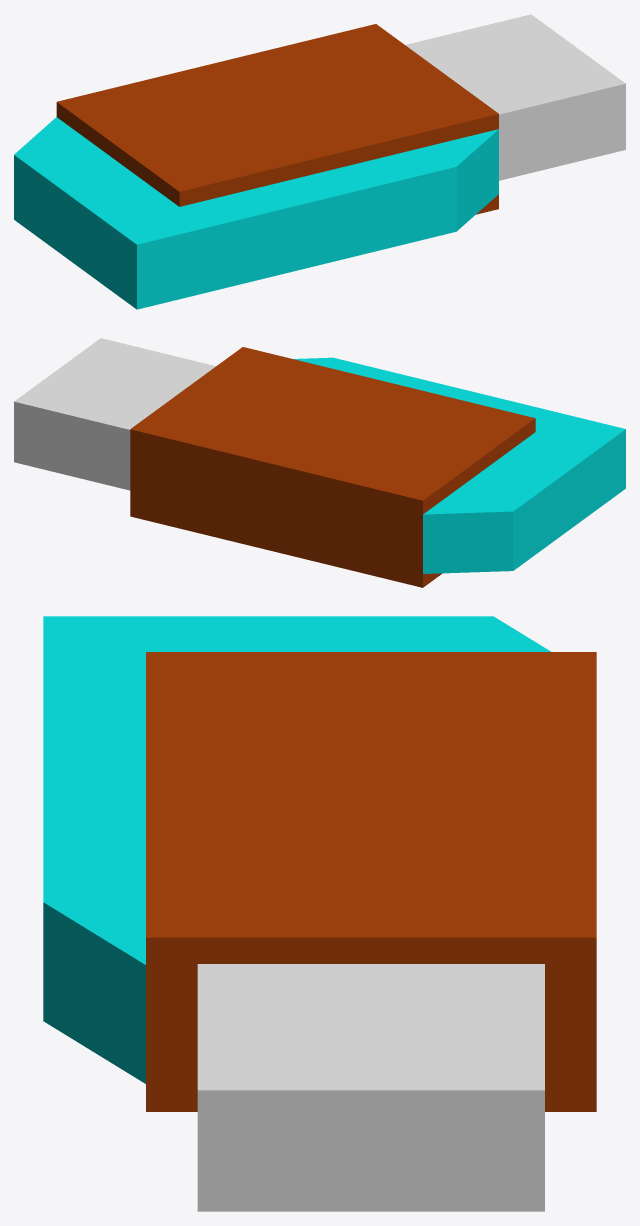
File: Tokens.fbx
3 renders of one model, top to bottom at view 1: azimuth 30°, elevation 25°; view 2: azimuth 150°, elevation 25°; view 3: azimuth 270°, elevation 25°, orthographic. The views are drawn at different scales.
Parts seen in each view (by area): view 1: pCube2; view 2: pCube2; view 3: pCube2.
Part boxes in pixels (x1,y1,x2,y2): pCube2: (14, 14, 625, 309); pCube2: (14, 338, 625, 587); pCube2: (43, 616, 596, 1211).
Bounding box in the file's own units: 5.84 × 1 × 2.87.
